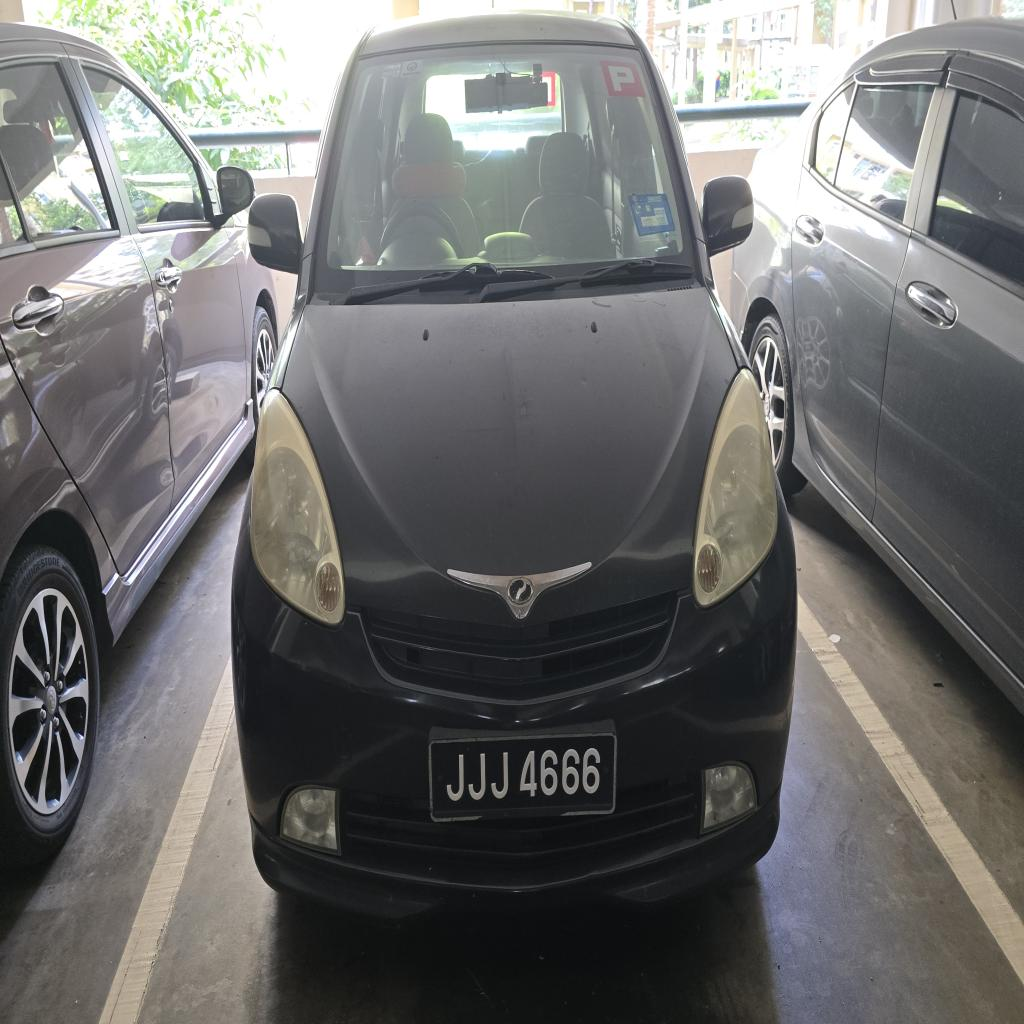car: (233, 14, 795, 916)
car plate: (429, 723, 616, 820)
